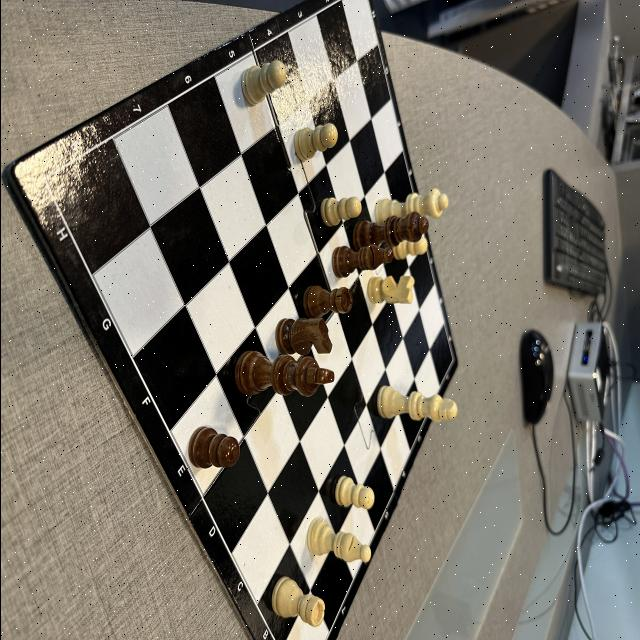Black-Bishop: (330, 245, 392, 278)
Black-King: (233, 351, 334, 396)
Black-Knight: (274, 318, 332, 355)
Black-Pawn: (187, 426, 239, 469)
Black-Queen: (351, 212, 428, 248)
Black-Rook: (302, 285, 352, 317)
White-Bishop: (306, 517, 370, 563)
White-King: (376, 385, 456, 423)
White-Knight: (366, 275, 414, 305)
White-Pawn: (240, 60, 286, 106), (293, 122, 337, 162), (334, 475, 374, 509), (319, 196, 361, 226), (392, 238, 427, 262)
White-Queen: (373, 188, 448, 224)
White-Rook: (270, 576, 324, 628)
